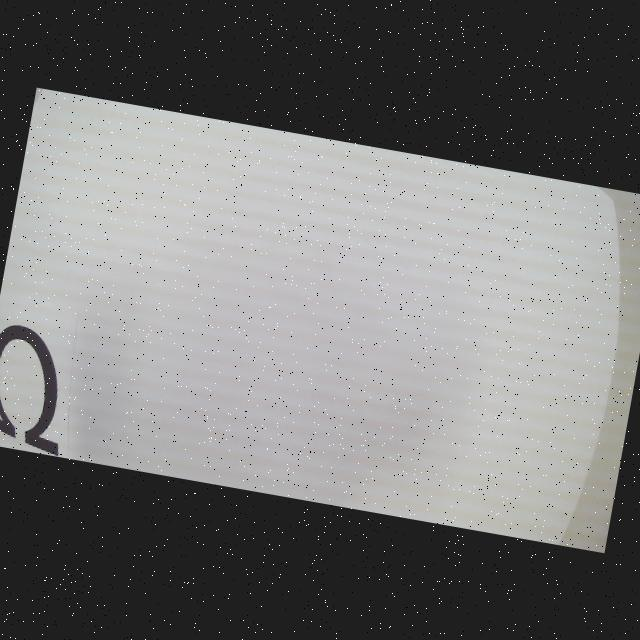OMEGA: (0, 321, 79, 457)
